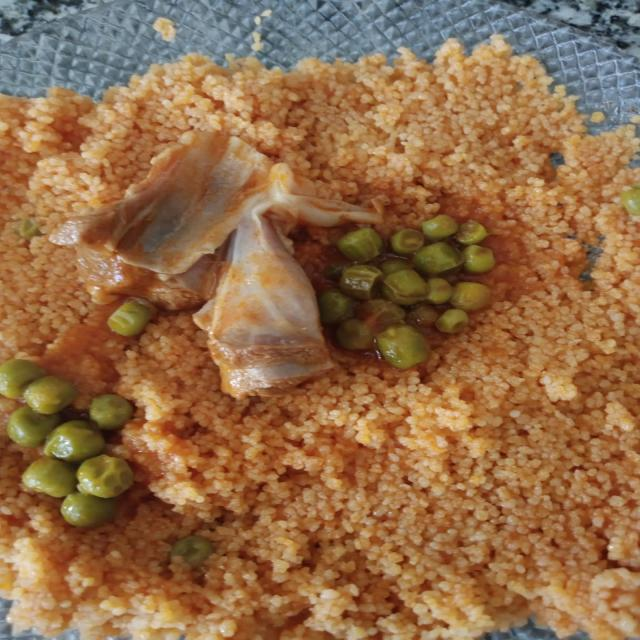Couscous: (0, 39, 633, 622)
